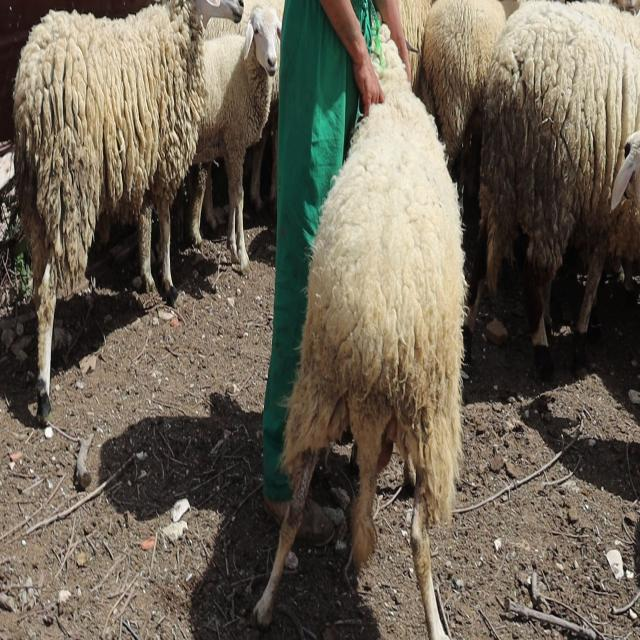Score_5: (252, 29, 466, 639)
